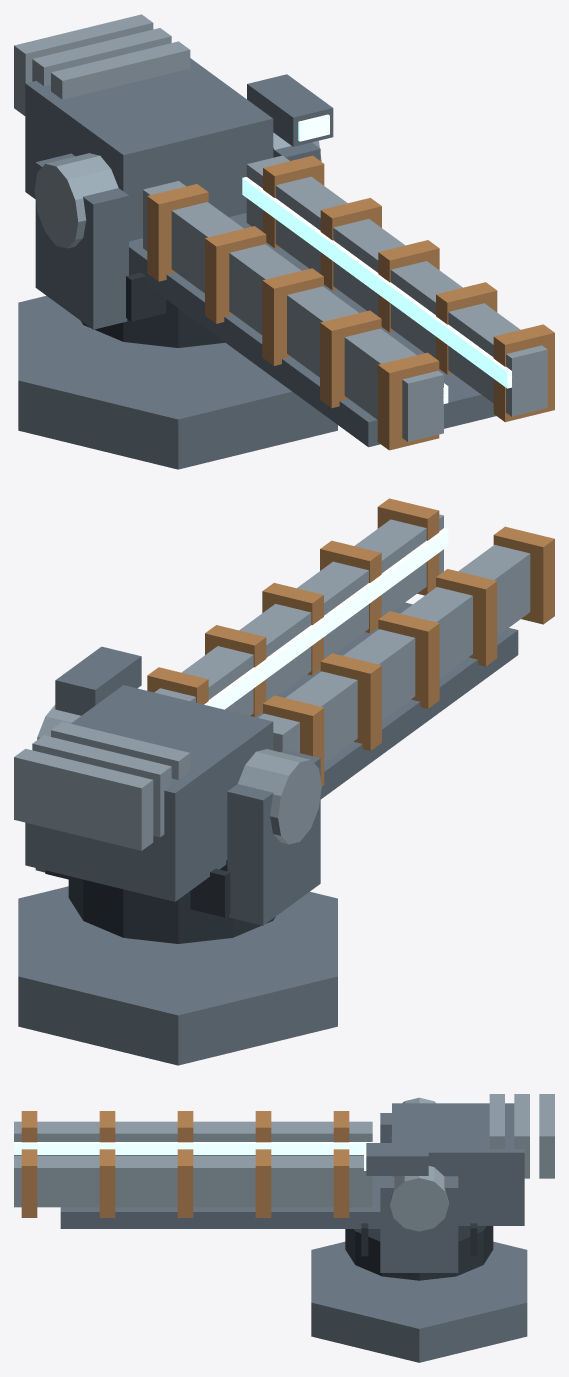
Rendered from railgun_t2.glb.
The picture shows the model from 3 angles, top to bottom: view 1: azimuth 30°, elevation 25°; view 2: azimuth 150°, elevation 25°; view 3: azimuth 270°, elevation 25°; orthographic projection. The views are drawn at different scales.
Visible parts, largest first — view 1: Ground plinth, Mass driver rail (×2), Rail winding (×10), Breech, Capacitor (×3), Cradle (×2), Lower spine, Induction track, Elevation motor, Targeting optic, Bearing, Cooling blade (+1 smaller); view 2: Ground plinth, Mass driver rail (×2), Breech, Rail winding (×10), Capacitor (×3), Cradle, Bearing, Lower spine, Induction track, Elevation motor, Targeting optic, Cooling blade; view 3: Mass driver rail (×2), Ground plinth, Breech, Rail winding (×10), Lower spine, Cradle (×2), Induction track, Capacitor (×3), Bearing, Elevation motor, Targeting optic.
Part boxes in pixels (box(x1,y1,x2,y2)): Ground plinth: box(18, 295, 337, 469); Mass driver rail (×2): box(143, 155, 547, 441); Rail winding (×10): box(147, 155, 554, 450); Breech: box(25, 58, 273, 241); Capacitor (×3): box(14, 14, 190, 115); Cradle (×2): box(35, 142, 320, 329); Lower spine: box(129, 213, 495, 447); Induction track: box(242, 177, 511, 388); Elevation motor: box(34, 153, 118, 248); Targeting optic: box(247, 74, 333, 146); Bearing: box(81, 299, 224, 347); Cooling blade: box(126, 272, 165, 321); Ground plinth: box(18, 886, 337, 1065); Mass driver rail (×2): box(154, 514, 530, 762); Breech: box(25, 685, 273, 901); Rail winding (×10): box(147, 498, 554, 786); Capacitor (×3): box(14, 721, 190, 850); Cradle: box(227, 749, 320, 925); Bearing: box(68, 879, 275, 943); Lower spine: box(255, 602, 518, 799); Induction track: box(204, 528, 448, 709); Elevation motor: box(238, 749, 321, 844); Targeting optic: box(55, 646, 141, 715); Cooling blade: box(45, 868, 230, 917); Mass driver rail (×2): box(14, 1121, 372, 1207); Ground plinth: box(311, 1241, 527, 1362); Breech: box(392, 1103, 524, 1225); Rail winding (×10): box(21, 1111, 349, 1217); Lower spine: box(60, 1176, 391, 1228); Cradle (×2): box(380, 1113, 458, 1272); Induction track: box(14, 1142, 372, 1154); Capacitor (×3): box(489, 1094, 554, 1178); Bearing: box(345, 1226, 493, 1280); Elevation motor: box(389, 1166, 448, 1231); Targeting optic: box(366, 1143, 428, 1175).
Size of the model in its own units: 1.6 by 1.38 by 3.47.
